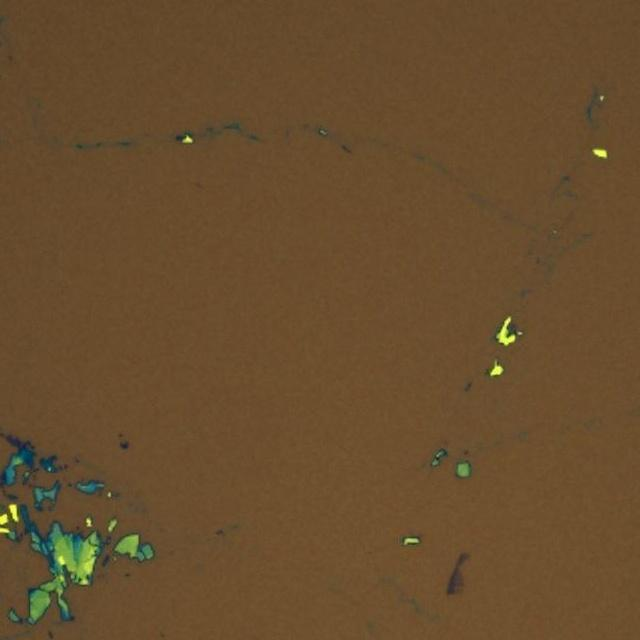monolayer-eWW4: (454, 572, 464, 594)
